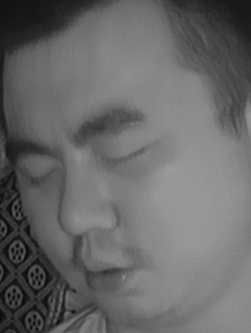blink: (99, 138, 147, 174), (20, 157, 60, 191)
mouth: (77, 246, 143, 298)
